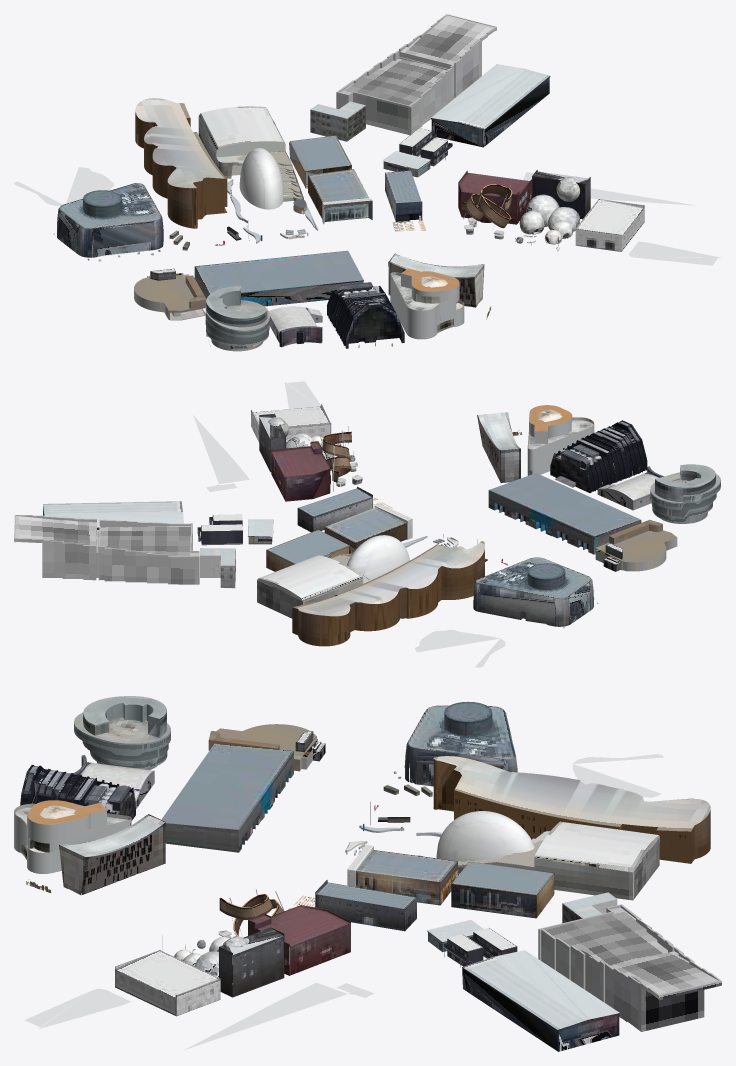
The picture shows the model from 3 angles, top to bottom: view 1: azimuth 30°, elevation 25°; view 2: azimuth 150°, elevation 25°; view 3: azimuth 270°, elevation 25°; orthographic projection. The views are drawn at different scales.
Parts seen in each view (by area): view 1: Buildings_建物パビリオン, Facilities_都市設備; view 2: Buildings_建物パビリオン, Facilities_都市設備; view 3: Buildings_建物パビリオン, Facilities_都市設備.
Boxes of the visible parts, x1=… form: Buildings_建物パビリオン: x1=14, y1=14, x2=721, y2=351; Facilities_都市設備: x1=53, y1=179, x2=560, y2=347; Buildings_建物パビリオン: x1=14, y1=381, x2=720, y2=667; Facilities_都市設備: x1=320, y1=426, x2=707, y2=628; Buildings_建物パビリオン: x1=14, y1=696, x2=721, y2=1051; Facilities_都市設備: x1=26, y1=765, x2=442, y2=953.
Bounding box in the file's own units: 233 × 17.82 × 220.
50 materials, 48 textured.
